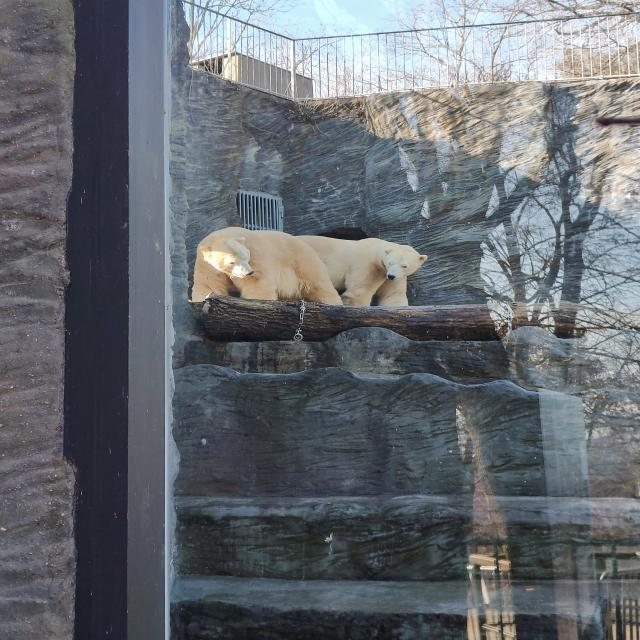bear: (192, 227, 343, 305), (294, 235, 428, 306)
